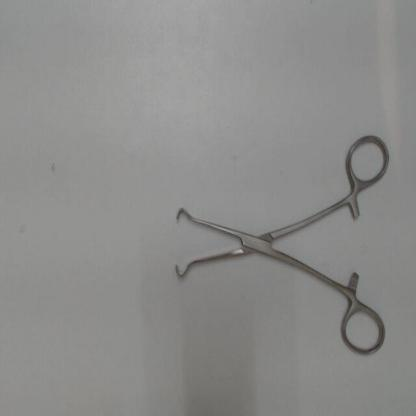Babcock Tissue Forceps: (167, 124, 395, 361)
